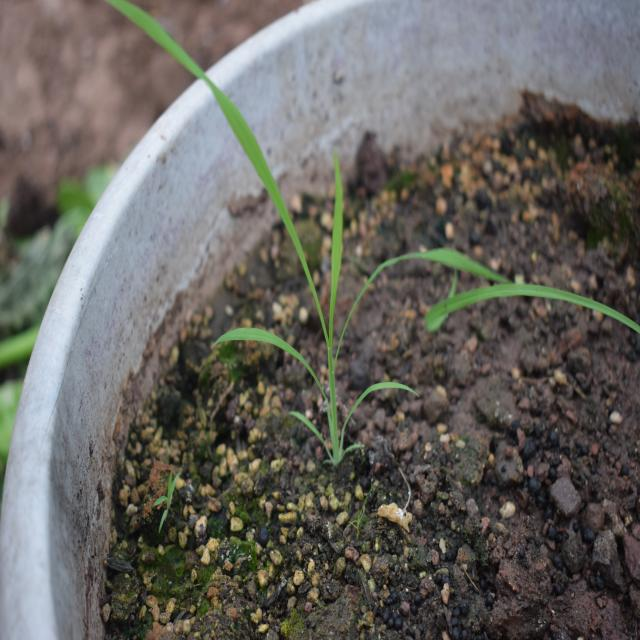barnyard_grass: (108, 0, 414, 472)
